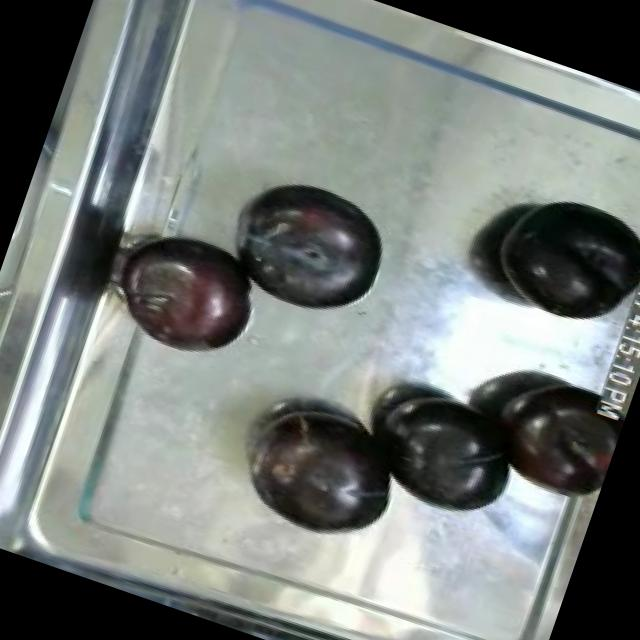Fruit: (228, 386, 418, 554), (220, 162, 402, 332), (470, 173, 640, 347), (360, 372, 537, 534), (102, 214, 276, 374), (479, 384, 624, 514)
